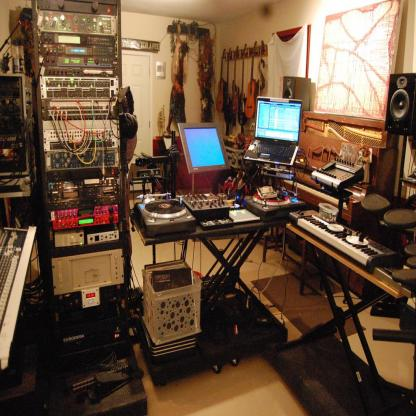board: (243, 97, 303, 167)
